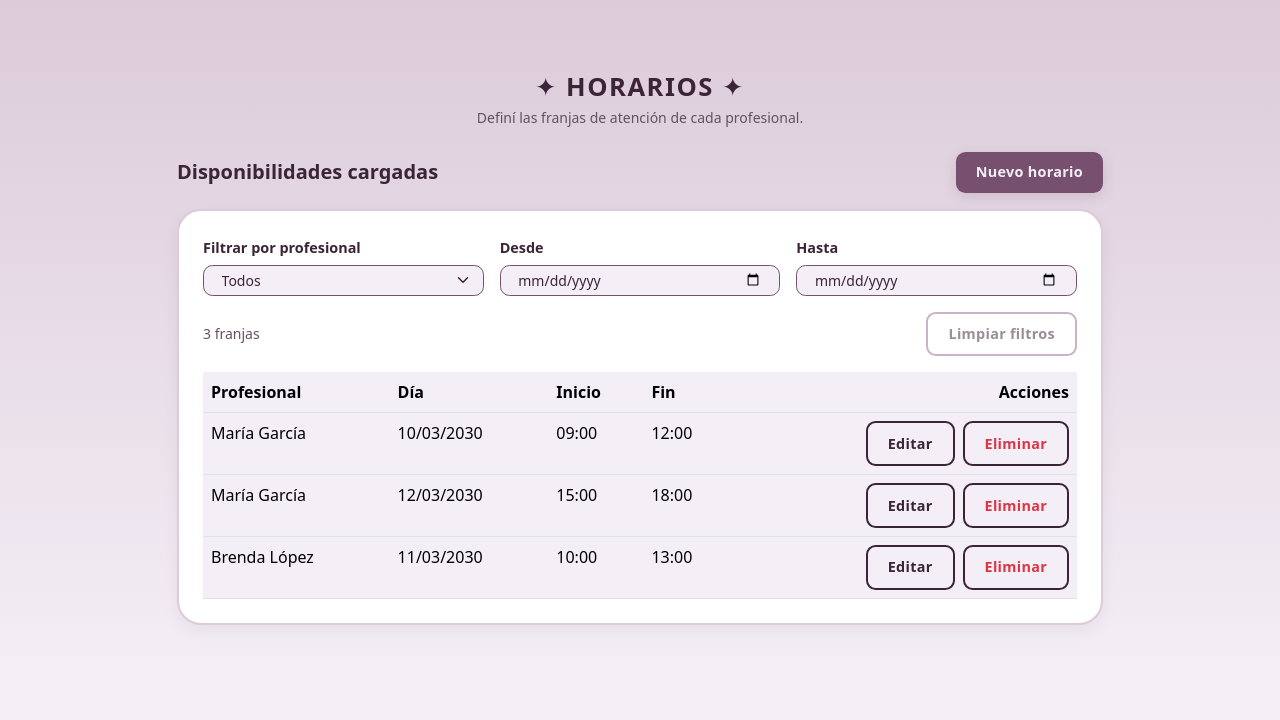
Test: AdminHorarios — filtros combinables › filtra por profesional
Select "Brenda López" in the dropdown labelled "Filtrar por profesional" at x=343, y=280, box x1=203 y1=264 x2=484 y2=296
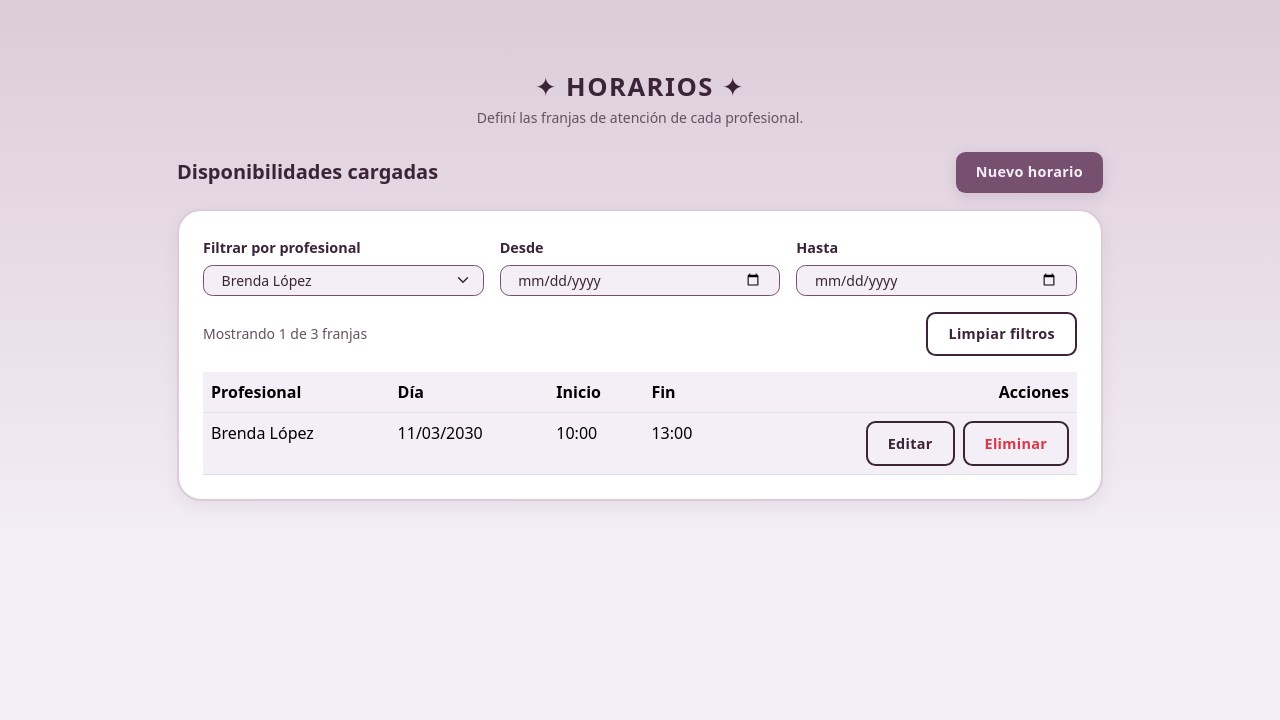
Expected: the text "Brenda López" is shown, x1=203 y1=413 x2=390 y2=475
Expected: the text "María García" is gone
Expected: the text "Mostrando 1 de 3 franjas" is shown, x1=203 y1=323 x2=367 y2=344
